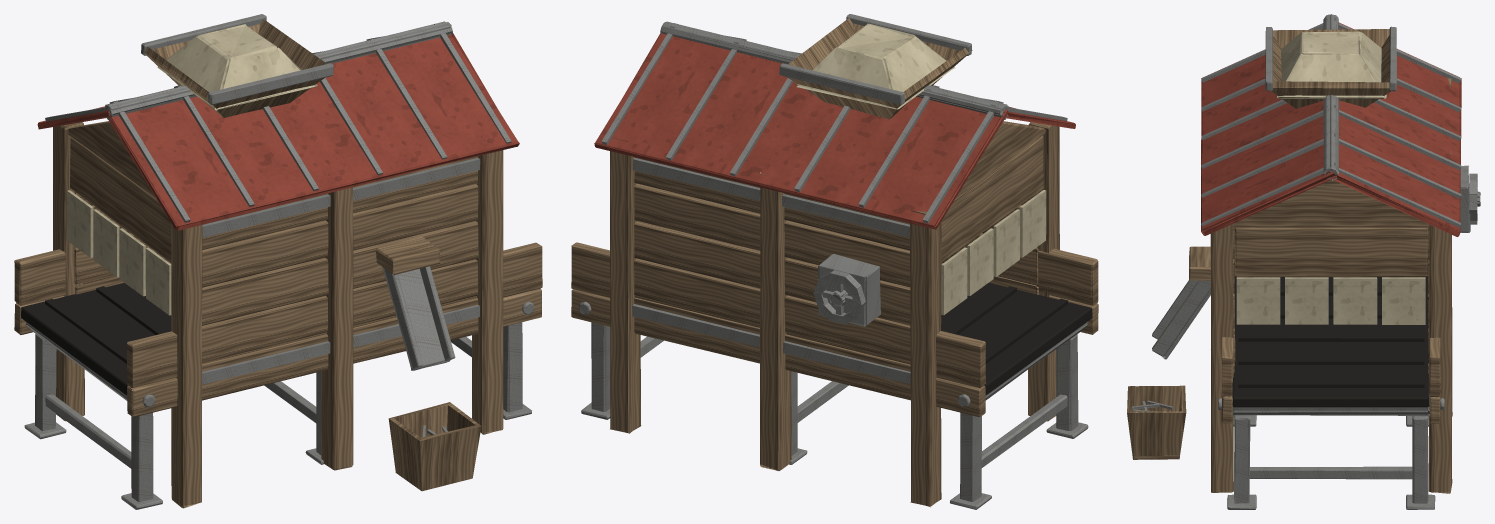
Rendered from conveyor_sorter.glb.
3 renders of one model, left to right at view 1: azimuth 30°, elevation 25°; view 2: azimuth 150°, elevation 25°; view 3: azimuth 270°, elevation 25°, orthographic. The views are drawn at different scales.
Visible parts, largest first — view 1: ConveyorSorter, Belt; view 2: ConveyorSorter, Belt; view 3: ConveyorSorter, Belt, Roller2.
Boxes of the visible parts, bbox=[...] form: ConveyorSorter: bbox=[14, 14, 542, 509]; Belt: bbox=[21, 283, 171, 395]; ConveyorSorter: bbox=[571, 14, 1098, 509]; Belt: bbox=[941, 283, 1092, 394]; ConveyorSorter: bbox=[1127, 14, 1480, 509]; Belt: bbox=[1232, 274, 1429, 407]; Roller2: bbox=[1233, 393, 1429, 415].
Size of the model in its own units: 3.37 by 3.07 by 2.72.
5 materials, 4 textured.
